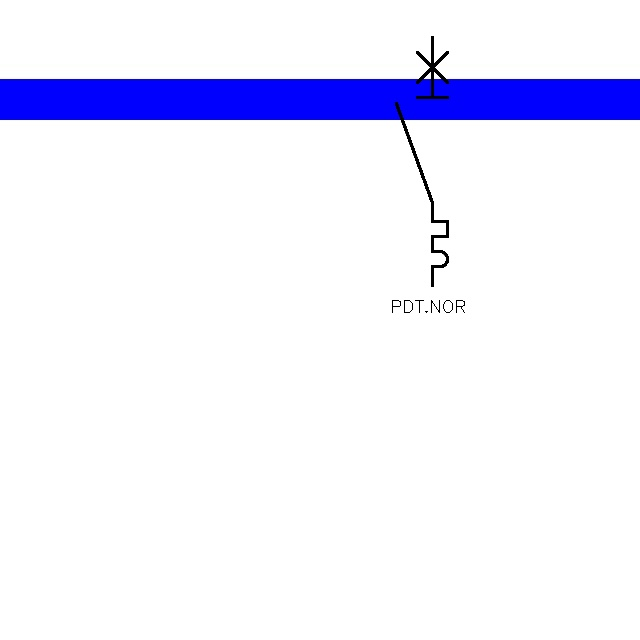interruptor_termomagnetico: (390, 31, 454, 292)
